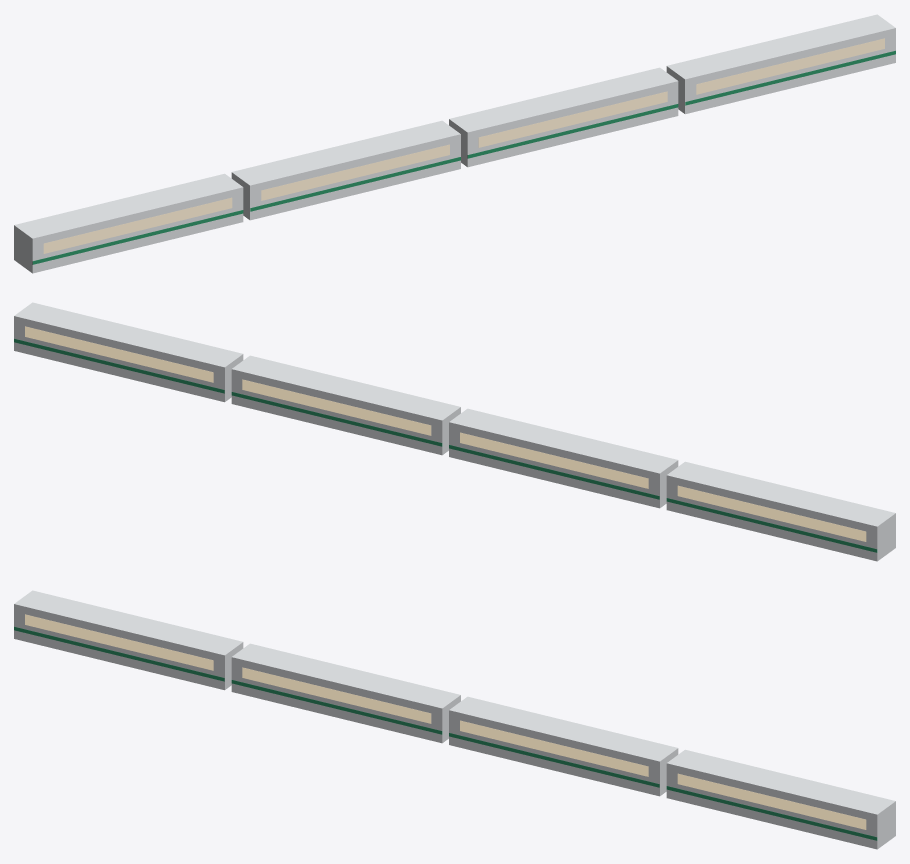
File: train.opt.glb
3 renders of one model, top to bottom at view 1: azimuth 30°, elevation 25°; view 2: azimuth 150°, elevation 25°; view 3: azimuth 330°, elevation 25°, orthographic.
Bounding box in the file's own units: 77.8 × 3 × 2.94.
